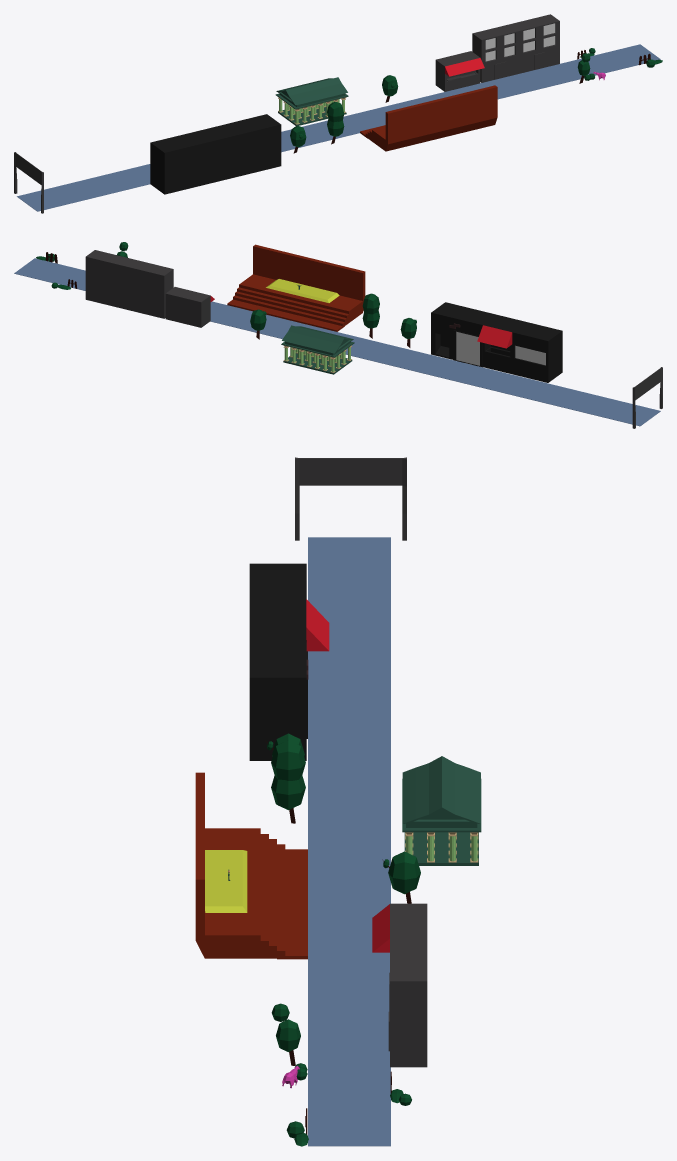
Rendered from back_color.obj.
The picture shows the model from 3 angles, top to bottom: view 1: azimuth 30°, elevation 25°; view 2: azimuth 150°, elevation 25°; view 3: azimuth 270°, elevation 25°; orthographic projection. The views are drawn at different scales.
Parts seen in each view (by area): view 1: Cube.017, Cube.015, Cube.043, Cube.016, Cube.003, Cube.038, Cube.014, Cylinder, Cube.035, Cube; view 2: Cube.017, Cube.043, Cube.016, Cube.015, Cube.003, Cube.041, Cube.042, Cylinder, Cube.014, Cube.039, Cube, Cube.021 (+1 smaller); view 3: Cube.017, Cube.043, Cube.015, Cube.016, Cube.003, Cube.014, Cube.042, Cube, Cube.021, Cube.004, Cube.039.
Boxes of the visible parts, x1=… form: Cube.017: x1=17, y1=44, x2=660, y2=211; Cube.015: x1=150, y1=114, x2=281, y2=194; Cube.043: x1=360, y1=85, x2=497, y2=151; Cube.016: x1=435, y1=14, x2=559, y2=91; Cube.003: x1=275, y1=77, x2=348, y2=109; Cube.038: x1=485, y1=23, x2=555, y2=61; Cube.014: x1=14, y1=152, x2=43, y2=213; Cylinder: x1=279, y1=99, x2=344, y2=123; Cube.035: x1=445, y1=58, x2=484, y2=76; Cube: x1=278, y1=107, x2=346, y2=126; Cube.017: x1=14, y1=258, x2=660, y2=426; Cube.043: x1=227, y1=244, x2=365, y2=331; Cube.016: x1=85, y1=250, x2=210, y2=327; Cube.015: x1=431, y1=302, x2=562, y2=382; Cube.003: x1=281, y1=325, x2=354, y2=357; Cube.041: x1=456, y1=331, x2=545, y2=365; Cube.042: x1=266, y1=279, x2=339, y2=302; Cylinder: x1=284, y1=347, x2=350, y2=371; Cube.014: x1=632, y1=367, x2=662, y2=428; Cube.039: x1=477, y1=325, x2=512, y2=348; Cube: x1=283, y1=353, x2=352, y2=374; Cube.021: x1=362, y1=293, x2=379, y2=314; Cube.017: x1=308, y1=537, x2=390, y2=1146; Cube.043: x1=195, y1=772, x2=307, y2=959; Cube.015: x1=249, y1=563, x2=307, y2=760; Cube.016: x1=390, y1=903, x2=427, y2=1067; Cube.003: x1=402, y1=756, x2=481, y2=832; Cube.014: x1=295, y1=457, x2=406, y2=540; Cube.042: x1=205, y1=850, x2=247, y2=912; Cube: x1=404, y1=832, x2=478, y2=865; Cube.021: x1=271, y1=740, x2=305, y2=780; Cube.004: x1=388, y1=851, x2=420, y2=894; Cube.039: x1=306, y1=599, x2=329, y2=651.
Size of the model in its own units: 512 by 35.88 by 101.
